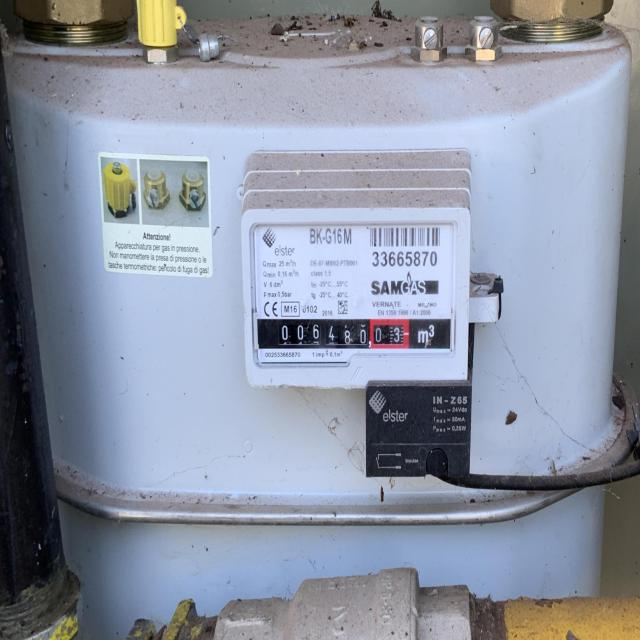gaz_meter: (249, 217, 457, 352)
indication: (274, 320, 408, 352)
